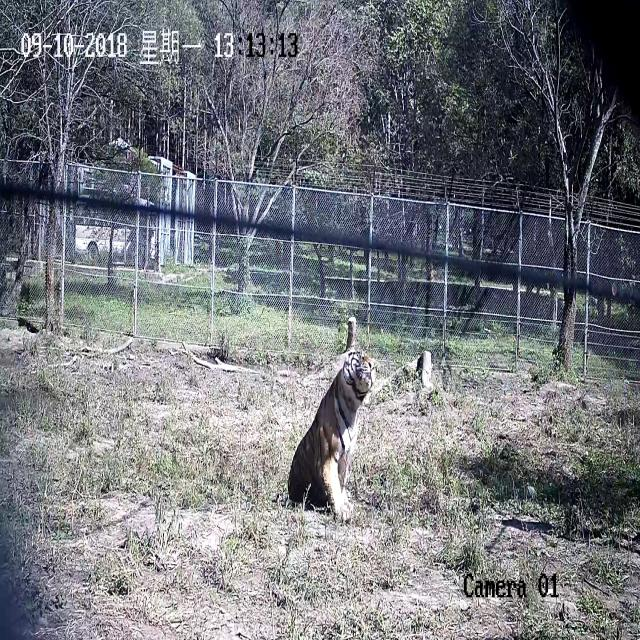Tiger: (256, 268, 400, 539)
